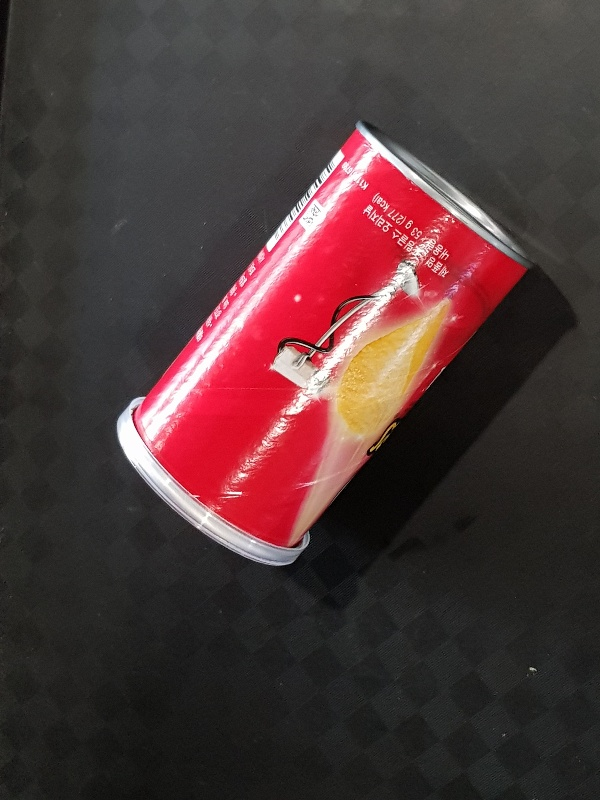Pringles Original: (118, 119, 533, 567)
